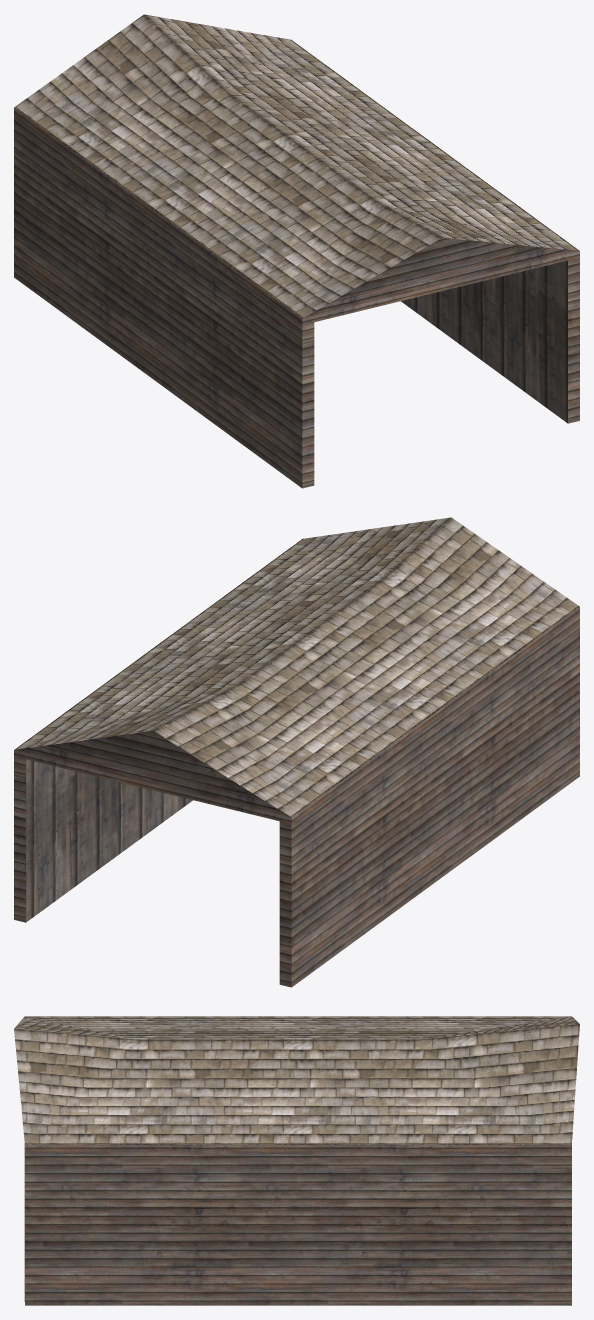
The model's file is cuntw_carport1_.obj.
The picture shows the model from 3 angles, top to bottom: view 1: azimuth 30°, elevation 25°; view 2: azimuth 150°, elevation 25°; view 3: azimuth 270°, elevation 25°; orthographic projection. The views are drawn at different scales.
Visible parts, largest first — view 1: cuntw_carport1_; view 2: cuntw_carport1_; view 3: cuntw_carport1_.
Boxes of the visible parts, x1=… form: cuntw_carport1_: x1=14, y1=14, x2=579, y2=488; cuntw_carport1_: x1=14, y1=517, x2=579, y2=987; cuntw_carport1_: x1=14, y1=1016, x2=579, y2=1305.
Size of the model in its own units: 4.45 by 3.48 by 8.28.
